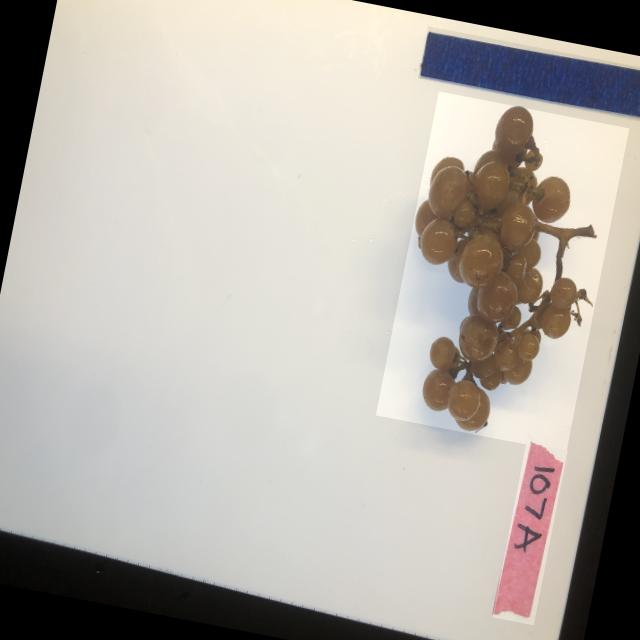grape_cluster: (375, 91, 628, 452)
index: (491, 442, 566, 625)
measure_label: (417, 26, 640, 123)
